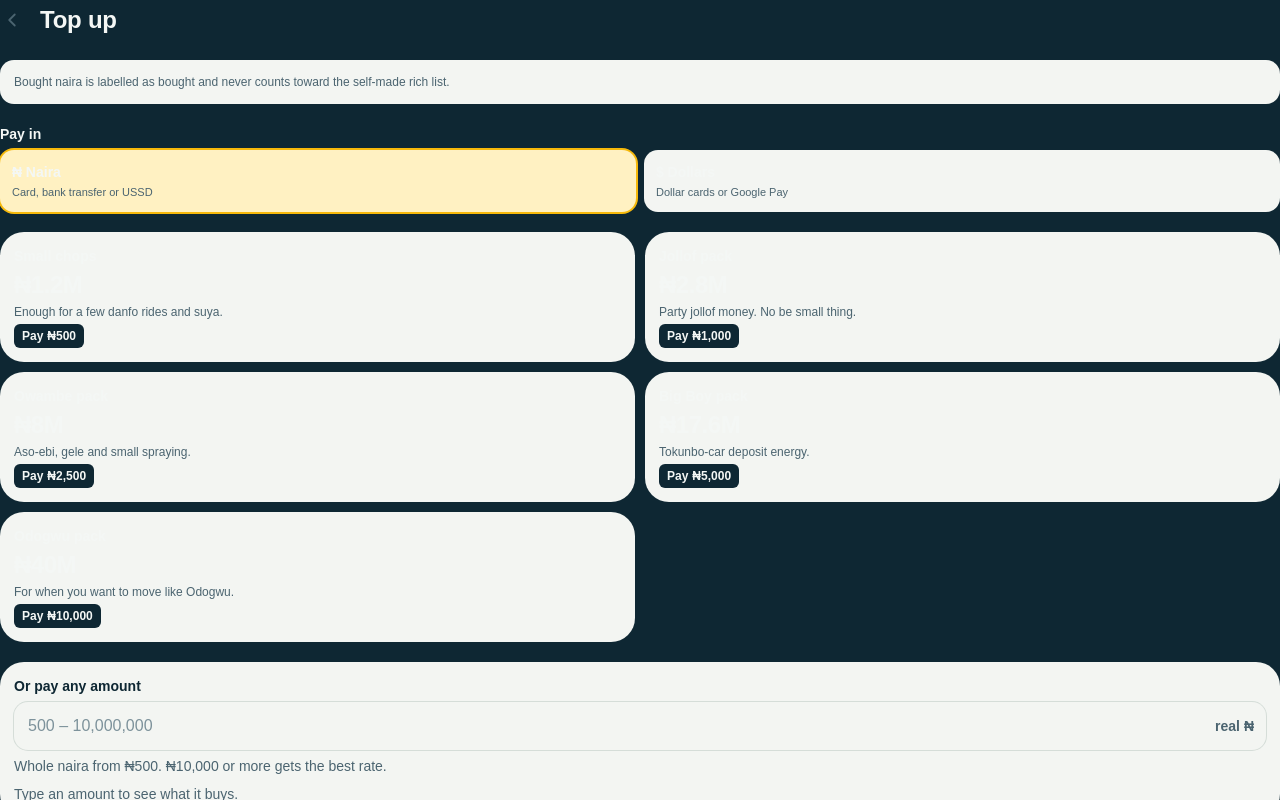
TopUpScreen paying in dollars › falls back to naira and says why when dollars were switched off meanwhile
Click the radio button labelled "Dollars": x=691, y=172 [644,150,1279,212]
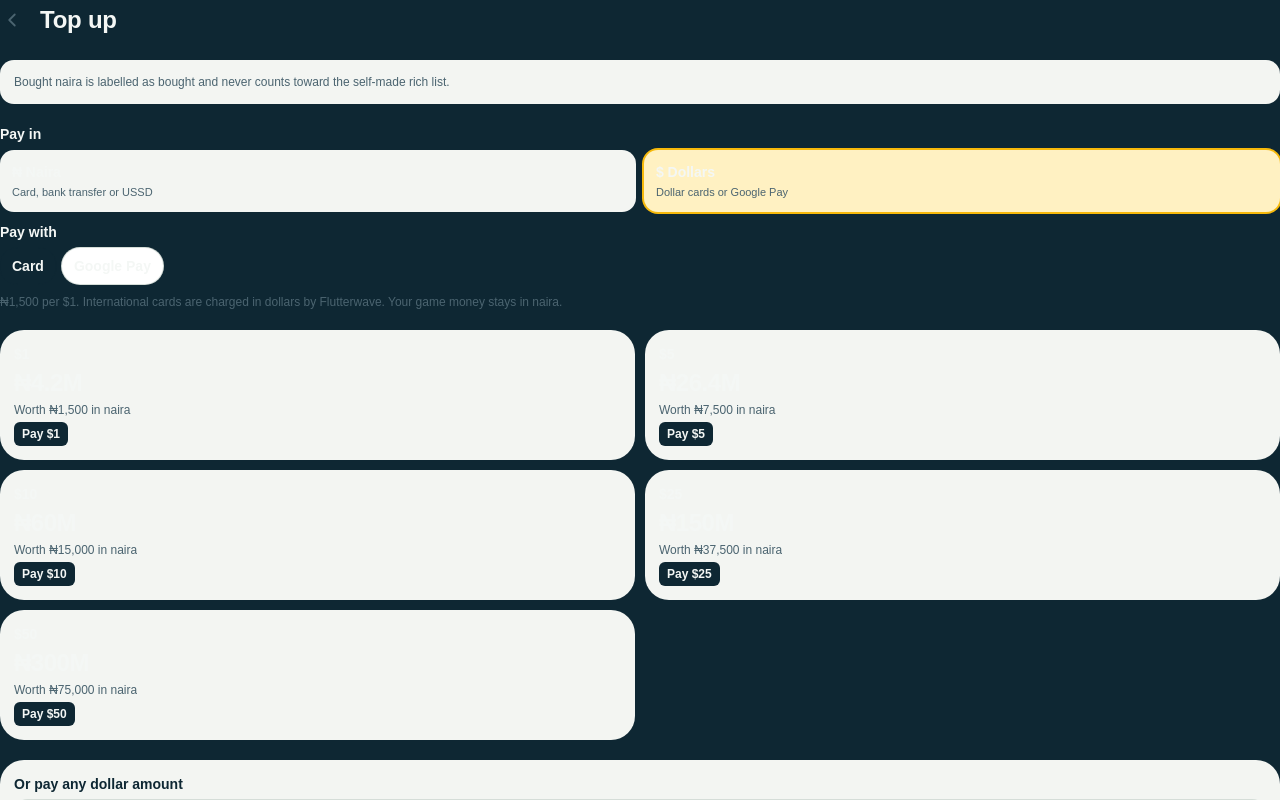
Click the button "$1 ₦4.2M Worth ₦1,500 in naira Pay $1": x=48, y=382 [0,330,635,460]
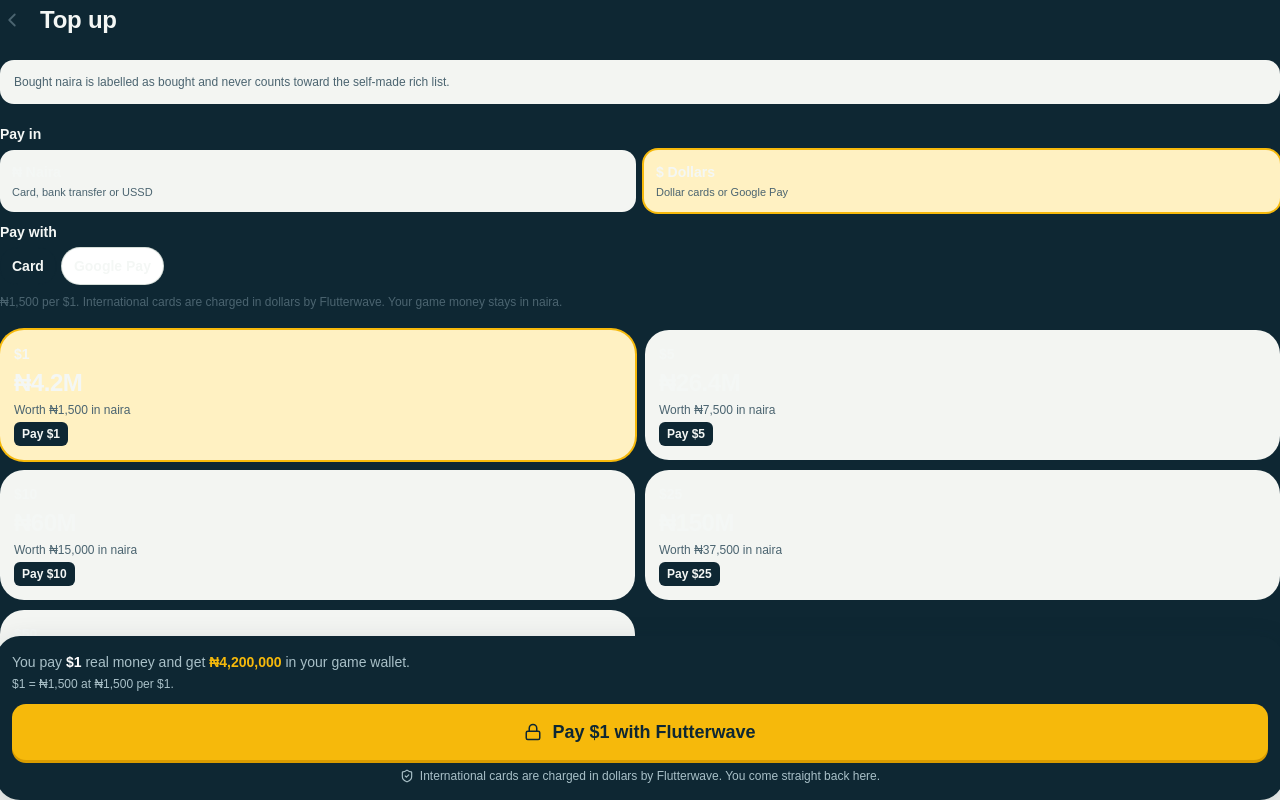
Click the button "Pay $1 with Flutterwave": x=640, y=732 [12,704,1268,760]
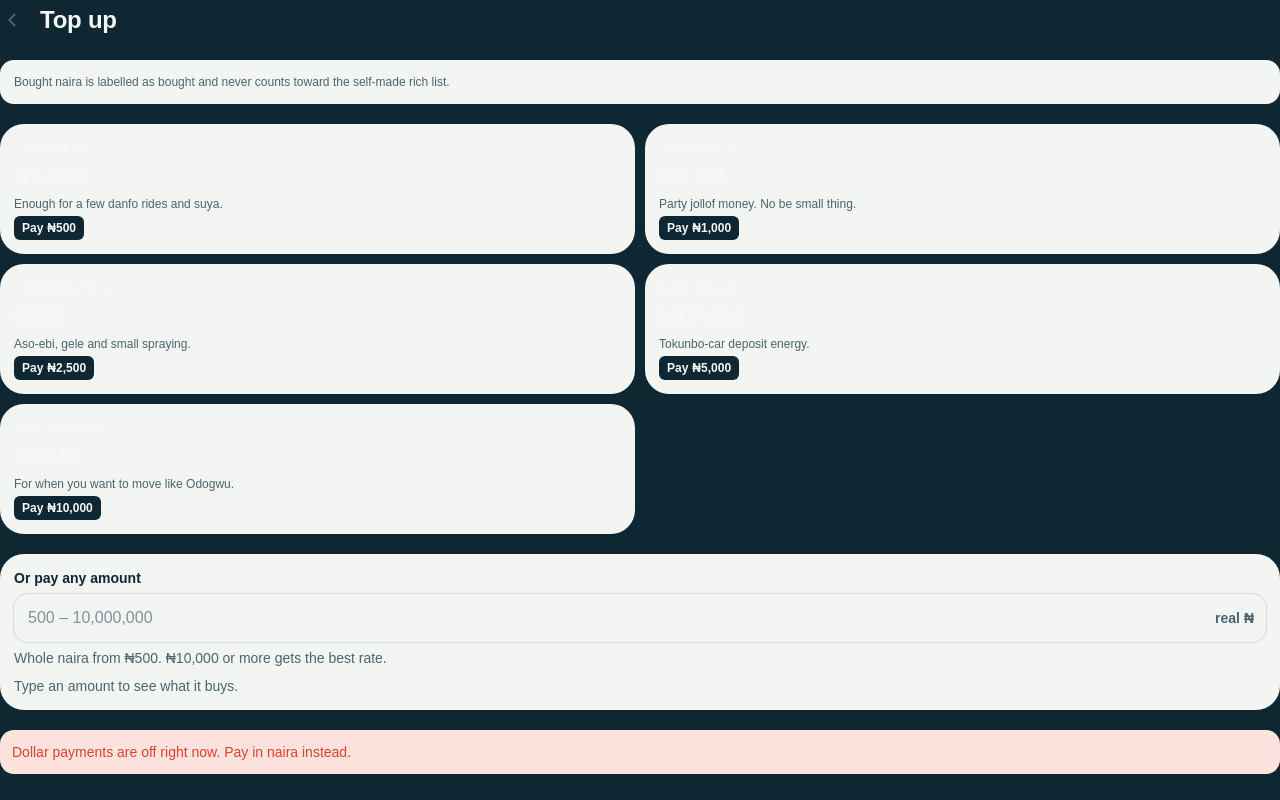
Expected: the list named "Top-up packs" is shown, [0,124,1279,534]
Expected: the radio button labelled "Dollars" is gone
Expected: the message reads "Dollar payments are off right now. Pay in naira instead.", [12,744,351,760]
